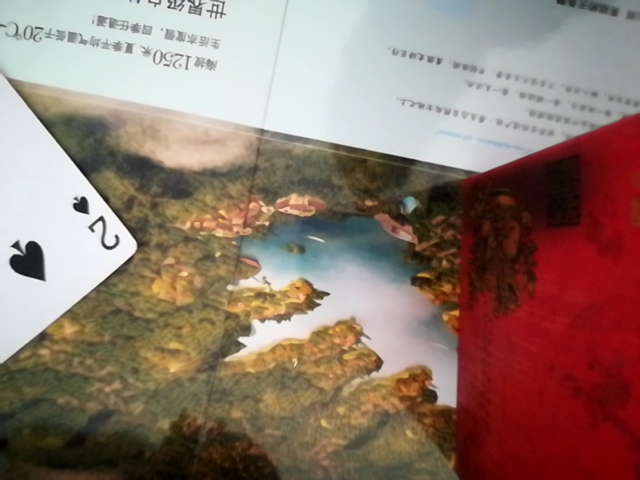ht 2: (0, 28, 136, 395)
